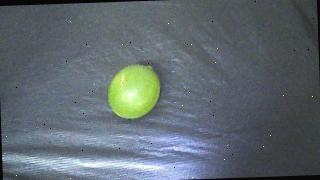LOCAL: (107, 63, 162, 119)
